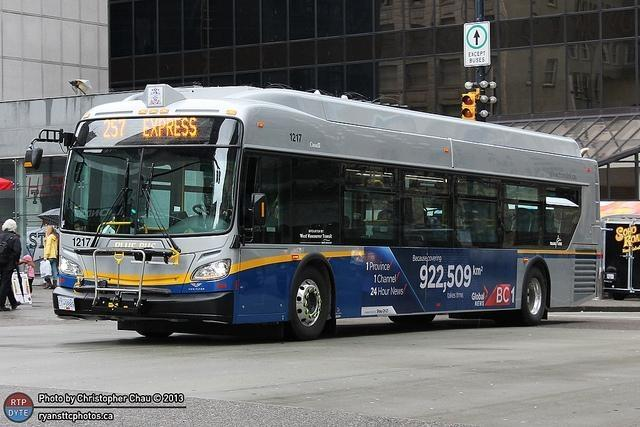bus: (55, 84, 602, 338)
